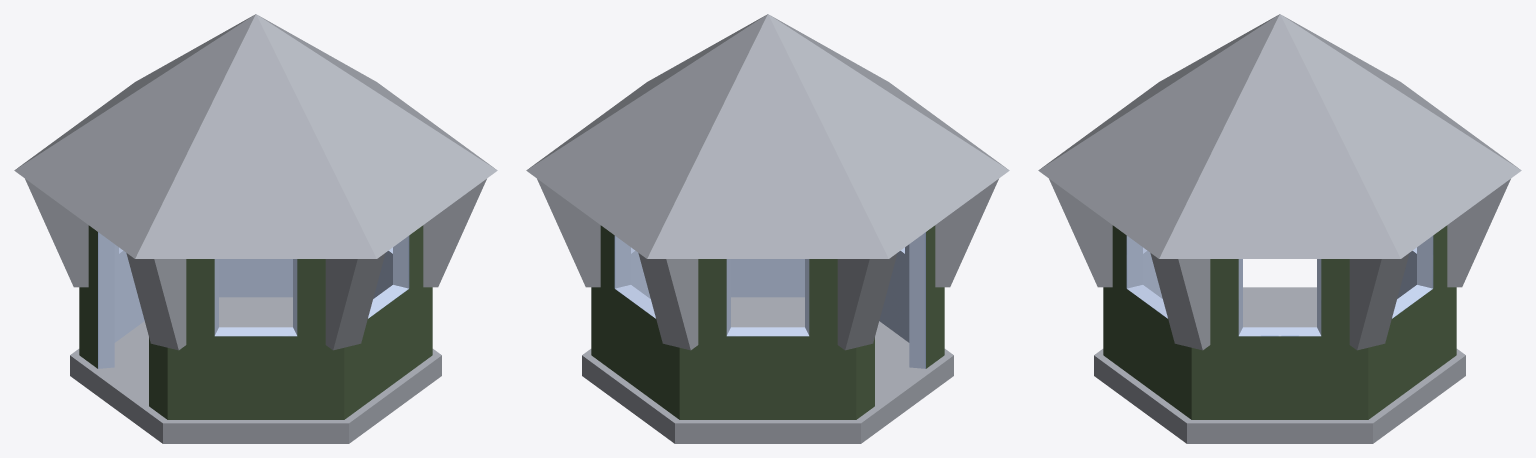
The model's file is House soldi LV1.fbx.
The picture shows the model from 3 angles, left to right: view 1: azimuth 30°, elevation 25°; view 2: azimuth 150°, elevation 25°; view 3: azimuth 270°, elevation 25°; orthographic projection.
Visible parts, largest first — view 1: HouseSoldiLV1; view 2: HouseSoldiLV1; view 3: HouseSoldiLV1.
Part boxes in pixels (x1,y1,x2,y2): HouseSoldiLV1: (14,14,497,443); HouseSoldiLV1: (526,14,1009,443); HouseSoldiLV1: (1038,14,1521,443).
Size of the model in its own units: 259 by 247 by 299.
